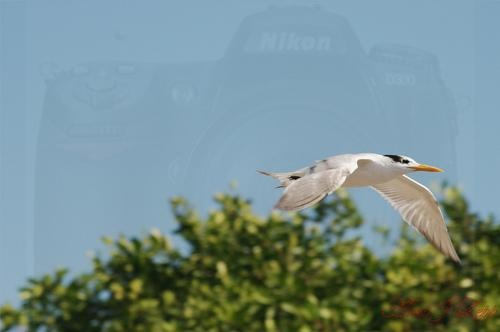bird: (240, 154, 459, 265)
